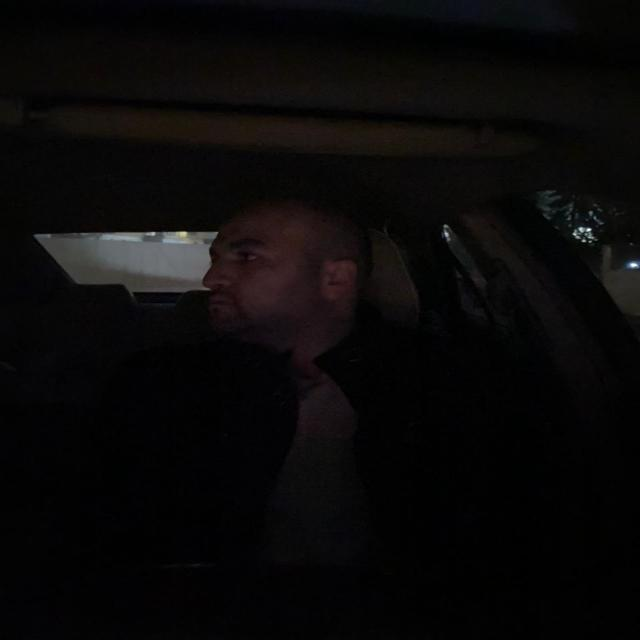LeftRight: (194, 195, 378, 344)
